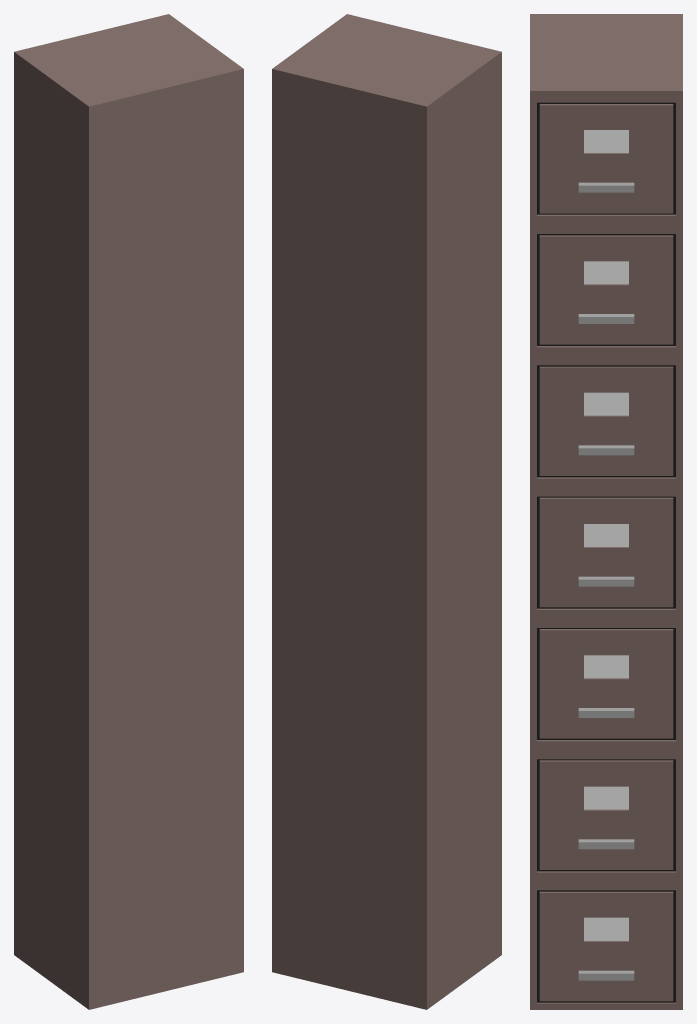
Rendered from Arquivo7.fbx.
The picture shows the model from 3 angles, left to right: view 1: azimuth 30°, elevation 25°; view 2: azimuth 150°, elevation 25°; view 3: azimuth 270°, elevation 25°; orthographic projection.
Parts seen in each view (by area): view 1: Cube; view 2: Cube; view 3: Cube.
Boxes of the visible parts, x1,y1,x2,y2 form: Cube: (14, 14, 243, 1009); Cube: (272, 14, 501, 1009); Cube: (530, 14, 682, 1009).
Size of the model in its own units: 248 by 1328 by 200.
